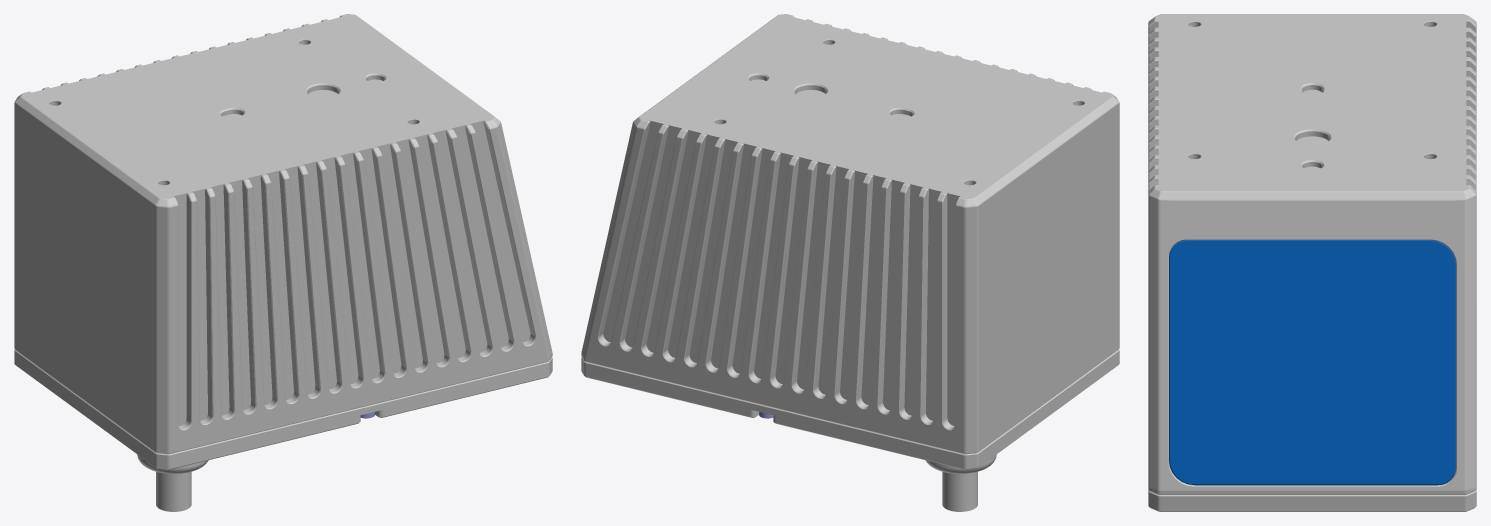
The model's file is mid70.obj.
The picture shows the model from 3 angles, left to right: view 1: azimuth 30°, elevation 25°; view 2: azimuth 150°, elevation 25°; view 3: azimuth 270°, elevation 25°; orthographic projection. The views are drawn at different scales.
Parts seen in each view (by area): view 1: mid-70; view 2: mid-70; view 3: mid-70.
Boxes of the visible parts, x1,y1,x2,y2 form: mid-70: [14, 14, 552, 511]; mid-70: [581, 14, 1119, 511]; mid-70: [1148, 14, 1476, 511].
Size of the model in its own units: 0.097 by 0.0881 by 0.064.
